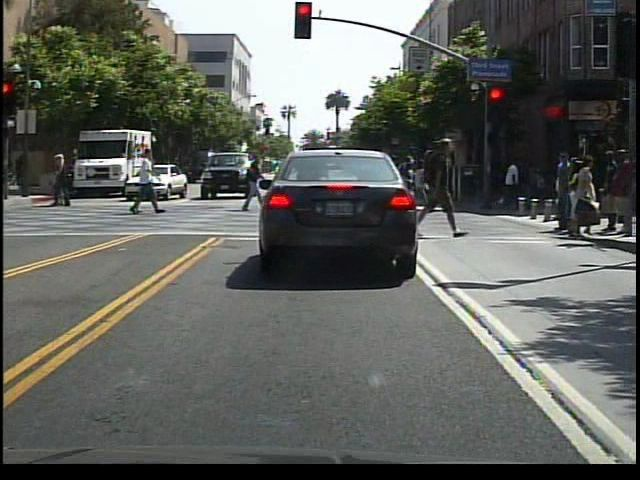person: (414, 130, 464, 241), (557, 154, 606, 245), (128, 149, 165, 225), (551, 153, 577, 225), (238, 156, 265, 213), (50, 150, 73, 213), (504, 155, 523, 220)
